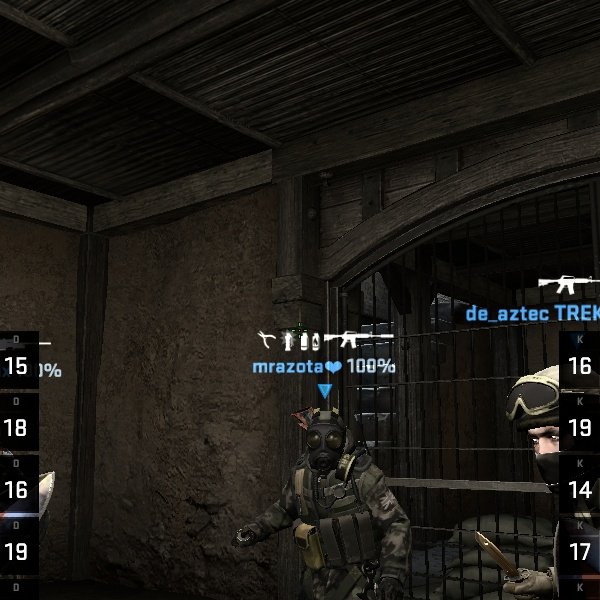ct_body: (253, 401, 446, 600)
ct_head: (284, 398, 365, 479)
